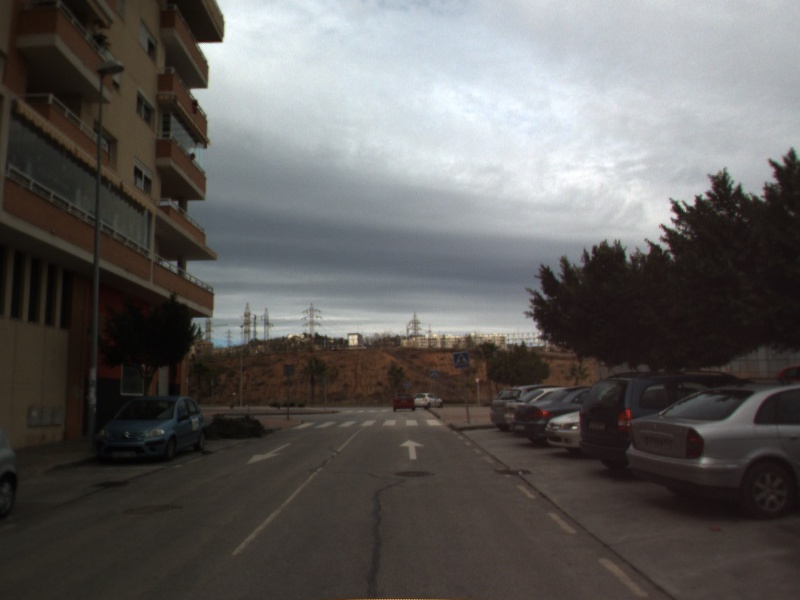STRAIGHT: (398, 437, 426, 461)
